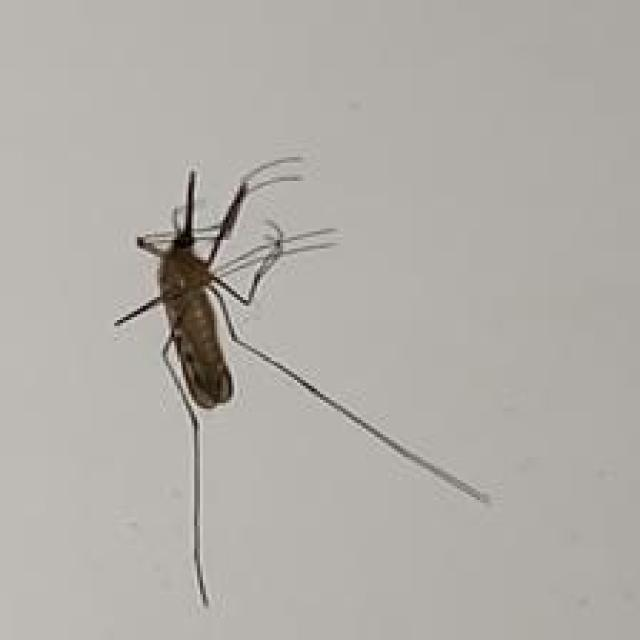Culex: (111, 154, 492, 609)
